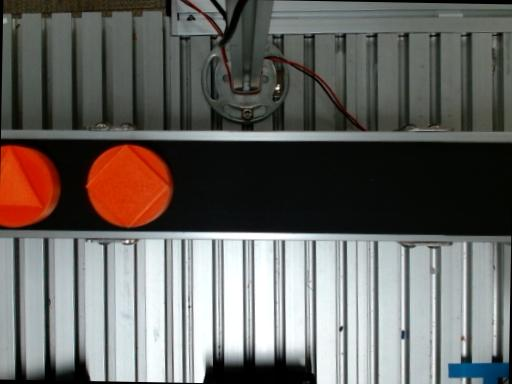Orange_Waper: (86, 144, 173, 227), (0, 146, 61, 228)
Square: (86, 144, 171, 229)
